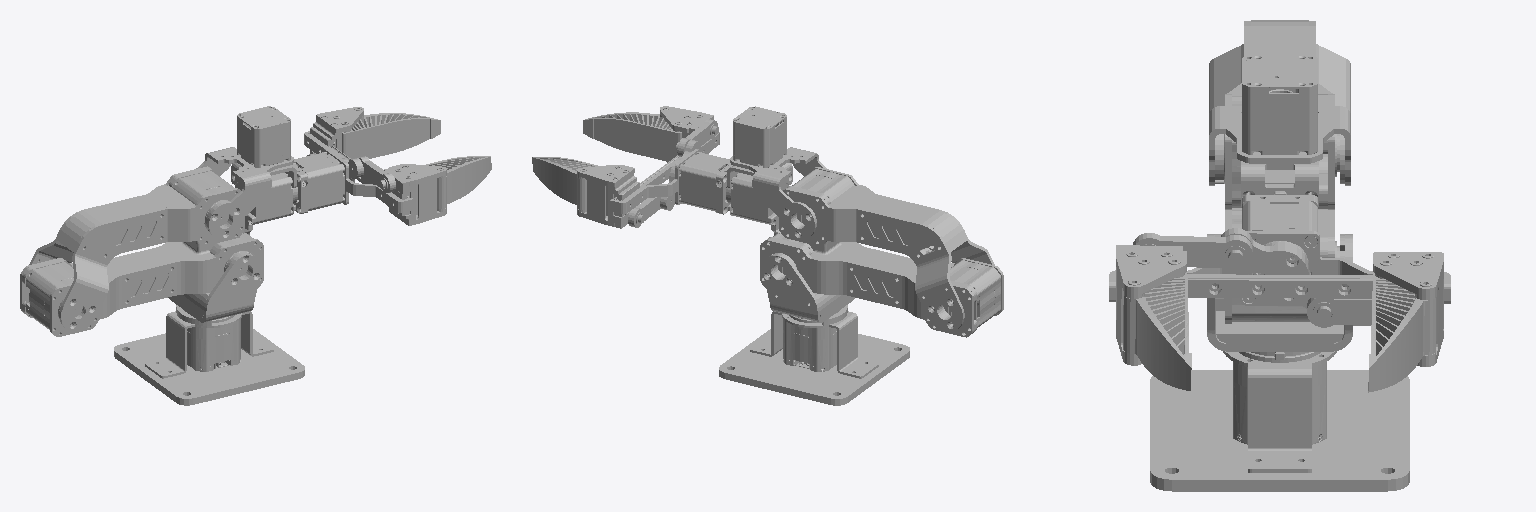
URDF robot description (xlerobot_ht_description):
<?xml version="1.0" encoding="utf-8"?>
 <!-- This URDF was automatically created by SolidWorks to URDF Exporter! Originally created by Stephen Brawner (brawner@gmail.com) 
      Commit Version: 1.6.0-4-g7f85cfe  Build Version: 1.6.7995.38578
      For more information, please see http://wiki.ros.org/sw_urdf_exporter -->
 <robot name="xlerobot_ht_description">
  <mujoco>
    <compiler meshdir="../meshes/" balanceinertia="true" discardvisual="false" />
  </mujoco>

   <link name="base_link">
     <inertial>
       <origin xyz="-6.7e-06 -6.477e-05 0.01798916" rpy="0 0 0" />
       <mass value="0.48888809" />
       <inertia ixx="0.00040573" ixy="-2.4e-07" ixz="4.8e-07" iyy="0.00043007" iyz="4.2e-07" izz="0.00059661" />
     </inertial>
     <visual>
       <origin xyz="0 0 0" rpy="0 0 0" />
       <geometry>
         <mesh filename="package://xlerobot_ht_description/meshes/base_link.STL" />
       </geometry>
       <material name="">
         <color rgba="0.75294 0.75294 0.75294 1" />
       </material>
     </visual>
     <collision>
       <origin xyz="0 0 0" rpy="0 0 0" />
       <geometry>
         <mesh filename="package://xlerobot_ht_description/meshes/base_link.STL" />
       </geometry>
     </collision>
   </link>
   <link name="link1">
     <inertial>
       <origin xyz="0.00093765 -0.0003632 0.01772447" rpy="0 0 0" />
       <mass value="0.11213854" />
       <inertia ixx="8.77e-05" ixy="4.9e-07" ixz="-6.96e-06" iyy="4.584e-05" iyz="9.3e-07" izz="8.407e-05" />
     </inertial>
     <visual>
       <origin xyz="0 0 0" rpy="0 0 0" />
       <geometry>
         <mesh filename="package://xlerobot_ht_description/meshes/link1.STL" />
       </geometry>
       <material name="">
         <color rgba="0.75294 0.75294 0.75294 1" />
       </material>
     </visual>
     <collision>
       <origin xyz="0 0 0" rpy="0 0 0" />
       <geometry>
         <mesh filename="package://xlerobot_ht_description/meshes/link1.STL" />
       </geometry>
     </collision>
   </link>
   <joint name="joint1" type="revolute">
     <origin xyz="0 0 0.0509" rpy="0 0 0" />
     <parent link="base_link" />
     <child link="link1" />
     <axis xyz="0 0 1" />
     <limit lower="-2.4" upper="2.4" effort="10" velocity="36" />
   </joint>
   <link name="link2">
     <inertial>
       <origin xyz="-0.07697407 -0.00343256 0.00025998" rpy="0 0 0" />
       <mass value="0.5508467" />
       <inertia ixx="0.00012809" ixy="0.0001513" ixz="0.0" iyy="0.00624549" iyz="2e-07" izz="0.0062977" />
     </inertial>
     <visual>
       <origin xyz="0 0 0" rpy="0 0 0" />
       <geometry>
         <mesh filename="package://xlerobot_ht_description/meshes/link2.STL" />
       </geometry>
       <material name="">
         <color rgba="0.75294 0.75294 0.75294 1" />
       </material>
     </visual>
     <collision>
       <origin xyz="0 0 0" rpy="0 0 0" />
       <geometry>
         <mesh filename="package://xlerobot_ht_description/meshes/link2.STL" />
       </geometry>
     </collision>
   </link>
   <joint name="joint2" type="revolute">
     <origin xyz="0.014559 0 0.043" rpy="0 0 0" />
     <parent link="link1" />
     <child link="link2" />
     <axis xyz="0 1 0" />
     <limit lower="0" upper="3.4" effort="10" velocity="36" />
   </joint>
   <link name="link3">
     <inertial>
       <origin xyz="0.07 -0.00283703 0.04500842" rpy="0 0 0" />
       <mass value="0.20" />
       <inertia ixx="0.00087053" ixy="0.00013406" ixz="0.00013406" iyy="0.00555656" iyz="0.00182632" izz="4.855e-05" />
     </inertial>
     <visual>
       <origin xyz="0 0 0" rpy="0 0 0" />
       <geometry>
         <mesh filename="package://xlerobot_ht_description/meshes/link3.STL" />
       </geometry>
       <material name="">
         <color rgba="0.75294 0.75294 0.75294 1" />
       </material>
     </visual>
     <collision>
       <origin xyz="0 0 0" rpy="0 0 0" />
       <geometry>
         <mesh filename="package://xlerobot_ht_description/meshes/link3.STL" />
       </geometry>
     </collision>
   </link>
   <joint name="joint3" type="revolute">
     <origin xyz="-0.156 0 0" rpy="0 0 0" />
     <parent link="link2" />
     <child link="link3" />
     <axis xyz="0 -1 0" />
     <limit lower="0" upper="3.4" effort="10" velocity="36" />
   </joint>
   <link name="link4">
     <inertial>
       <origin xyz="0.04660916 -4.35e-05 0.03826516" rpy="0 0 0" />
       <mass value="0.194896" />
       <inertia ixx="0.0003694" ixy="7.9e-07" ixz="7.9e-07" iyy="0.00082595" iyz="0.00039974" izz="7.9e-07" />
     </inertial>
     <visual>
       <origin xyz="0 0 0" rpy="0 0 0" />
       <geometry>
         <mesh filename="package://xlerobot_ht_description/meshes/link4.STL" />
       </geometry>
       <material name="">
         <color rgba="0.75294 0.75294 0.75294 1" />
       </material>
     </visual>
     <collision>
       <origin xyz="0 0 0" rpy="0 0 0" />
       <geometry>
         <mesh filename="package://xlerobot_ht_description/meshes/link4.STL" />
       </geometry>
     </collision>
   </link>
   <joint name="joint4" type="revolute">
     <origin xyz="0.138 0 0.05" rpy="0 0 0" />
     <parent link="link3" />
     <child link="link4" />
     <axis xyz="0 -1 0" />
     <limit lower="-1.7" upper="1.7" effort="10" velocity="36" />
   </joint>
   <link name="link5">
     <inertial>
       <origin xyz="0.00285059 -9.067e-05 -0.02985903" rpy="0 0 0" />
       <mass value="0.17547184" />
       <inertia ixx="2.152e-05" ixy="0.0" ixz="0.0" iyy="2.409e-05" iyz="1.55e-06" izz="-7e-08" />
     </inertial>
     <visual>
       <origin xyz="0 0 0" rpy="0 0 0" />
       <geometry>
         <mesh filename="package://xlerobot_ht_description/meshes/link5.STL" />
       </geometry>
       <material name="">
         <color rgba="0.75294 0.75294 0.75294 1" />
       </material>
     </visual>
     <collision>
       <origin xyz="0 0 0" rpy="0 0 0" />
       <geometry>
         <mesh filename="package://xlerobot_ht_description/meshes/link5.STL" />
       </geometry>
     </collision>
   </link>
   <joint name="joint5" type="revolute">
     <origin xyz="0.055 0 0.030878" rpy="0 0 0" />
     <parent link="link4" />
     <child link="link5" />
     <axis xyz="0 0 -1" />
     <limit lower="-1.7" upper="1.7" effort="3.7" velocity="60" />
   </joint>
   <link name="link6">
     <inertial>
       <origin xyz="0.06887692 -3.065e-05 1.176e-05" rpy="0 0 0" />
       <mass value="0.3" />
       <inertia ixx="0.00104999" ixy="-5.6e-07" ixz="-5.6e-07" iyy="0.00069828" iyz="1.4e-07" izz="3.038e-05" />
     </inertial>
     <visual>
       <origin xyz="0 0 0" rpy="0 0 0" />
       <geometry>
         <mesh filename="package://xlerobot_ht_description/meshes/link6.STL" />
       </geometry>
       <material name="">
         <color rgba="0.75294 0.75294 0.75294 1" />
       </material>
     </visual>
     <collision>
       <origin xyz="0 0 0" rpy="0 0 0" />
       <geometry>
         <mesh filename="package://xlerobot_ht_description/meshes/link6.STL" />
       </geometry>
     </collision>
   </link>
   <joint name="joint6" type="revolute">
     <origin xyz="0.0186 0 -0.033" rpy="0 0 0" />
     <parent link="link5" />
     <child link="link6" />
     <axis xyz="1 0 0" />
     <limit lower="-3.14" upper="3.14" effort="3.7" velocity="60" />
   </joint>
   <link name="tool_link"/>
   <joint name="tool_joint" type="fixed">
     <origin xyz="0.165 0 0" rpy="0 0 0" />
     <parent link="link6" />
     <child link="tool_link" />
   </joint>
 </robot>

--- Facts derived from the render (not from the file) ---
3 views of the same robot in one strip: view 1: azimuth 30°, elevation 25°; view 2: azimuth 150°, elevation 25°; view 3: azimuth 270°, elevation 25° (orthographic).
Robot: xlerobot_ht_description — 8 links, 7 joints (6 revolute, 1 fixed); root link base_link; default pose: every joint at zero.
Visible links, largest first — view 1: link6, link3, base_link, link2, link4, link1, link5; view 2: link6, link3, base_link, link2, link4, link1, link5; view 3: link6, base_link, link4, link3, link1, link2, link5.
Boxes of the visible links, box(x1,y1,x2,y2) form: link6: box(291, 107, 491, 225); link3: box(29, 166, 244, 331); base_link: box(114, 305, 304, 405); link2: box(20, 233, 263, 336); link4: box(196, 106, 293, 238); link1: box(168, 252, 261, 322); link5: box(231, 163, 296, 234); link6: box(532, 106, 732, 228); link3: box(779, 167, 994, 331); base_link: box(719, 305, 909, 405); link2: box(760, 233, 1003, 337); link4: box(730, 106, 826, 238); link1: box(762, 253, 854, 322); link5: box(727, 163, 792, 235); link6: box(1109, 191, 1450, 392); base_link: box(1150, 351, 1409, 491); link4: box(1209, 55, 1350, 185); link3: box(1209, 20, 1350, 209); link1: box(1207, 234, 1352, 359); link2: box(1225, 208, 1336, 323); link5: box(1241, 161, 1318, 206).
Bounding box of the posed robot: 0.4057 × 0.1581 × 0.2109 m (x, y, z).
7 mesh visuals loaded from 7 distinct referenced files (7 binary STL).
